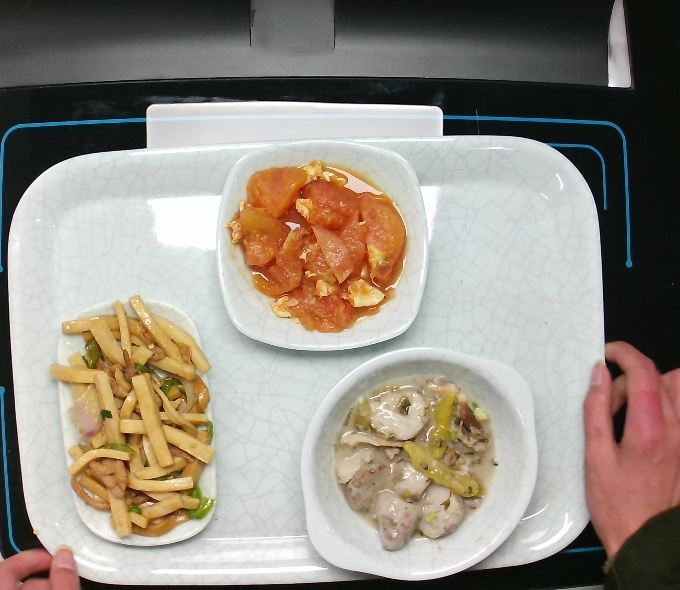wcq-FanQieChaoDan: (223, 155, 413, 335)
wcq-QianYeDouFu: (49, 289, 225, 549)
wcq-YangYu: (328, 368, 510, 555)
